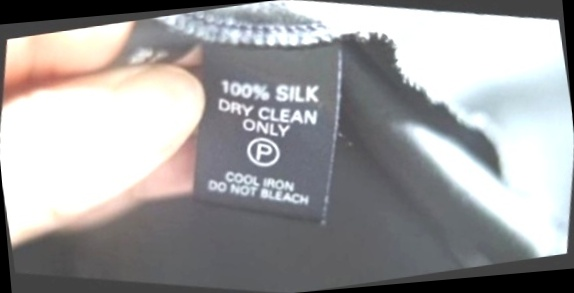dry_clean_any_solvent_except_trichloroethylene: (238, 126, 291, 177)
